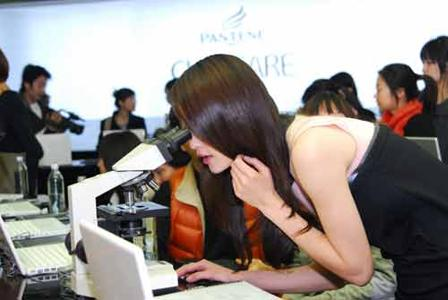person: (167, 52, 448, 298)
